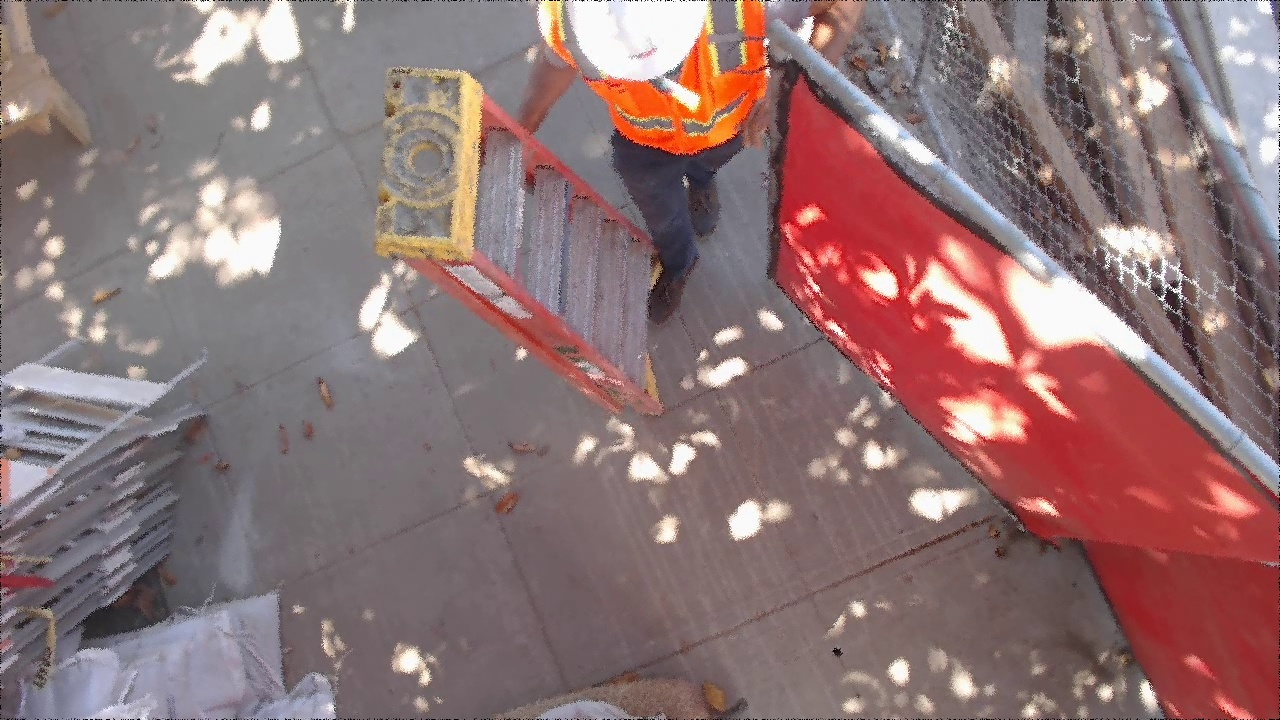hardhat: (881, 595, 1023, 716)
person: (804, 395, 1044, 716)
safetyvest: (861, 476, 1043, 715)
